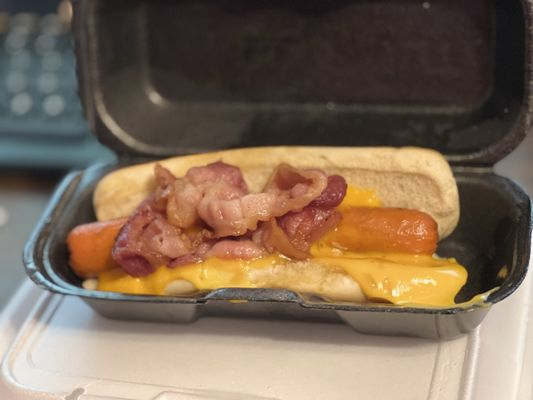burger: (90, 145, 469, 307)
curry: (3, 1, 483, 399)
taco: (0, 1, 118, 176)
